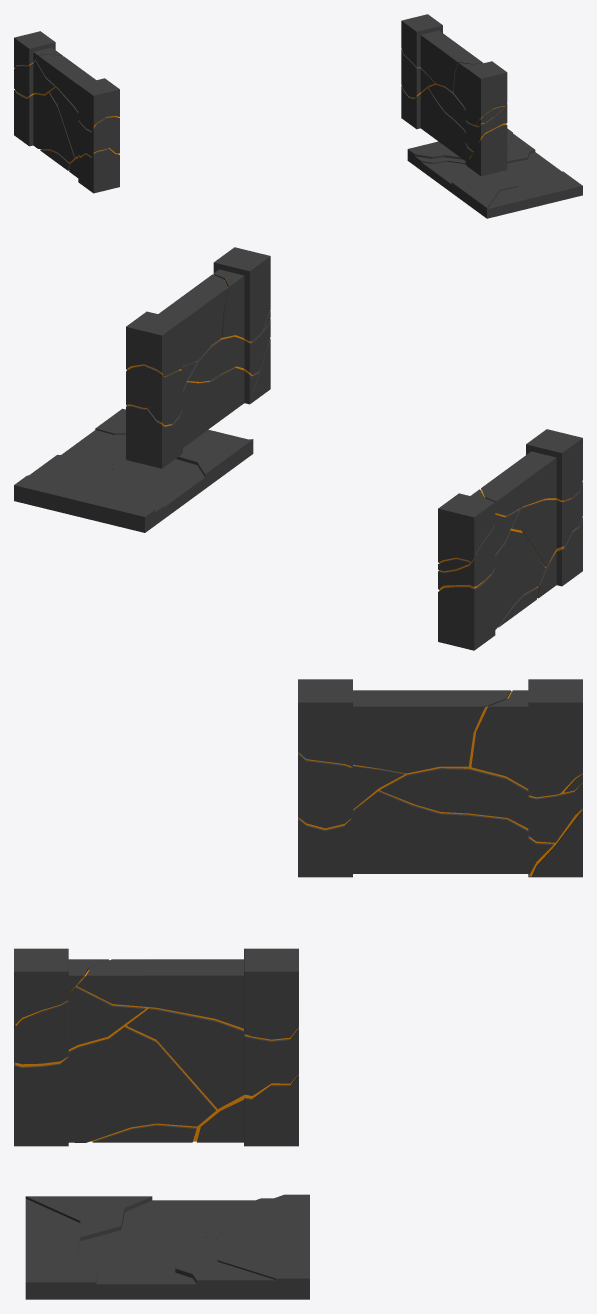
File: Asset Volkanik.fbx
3 renders of one model, top to bottom at view 1: azimuth 30°, elevation 25°; view 2: azimuth 150°, elevation 25°; view 3: azimuth 270°, elevation 25°, orthographic. The views are drawn at different scales.
Parts seen in each view (by area): view 1: pCube15, pCube28, pCube23; view 2: pCube28, pCube15, pCube23; view 3: pCube28, pCube15, pCube23.
Part boxes in pixels (left/top/right/bottom): pCube15: left=401, top=14, right=507, bottom=176; pCube28: left=14, top=31, right=119, bottom=193; pCube23: left=407, top=128, right=582, bottom=218; pCube28: left=438, top=429, right=582, bottom=650; pCube15: left=126, top=247, right=270, bottom=468; pCube23: left=14, top=408, right=253, bottom=532; pCube28: left=298, top=679, right=582, bottom=877; pCube15: left=14, top=948, right=298, bottom=1146; pCube23: left=25, top=1194, right=309, bottom=1299.
Size of the model in its own units: 0.2335 by 0.0781 by 0.1555.
